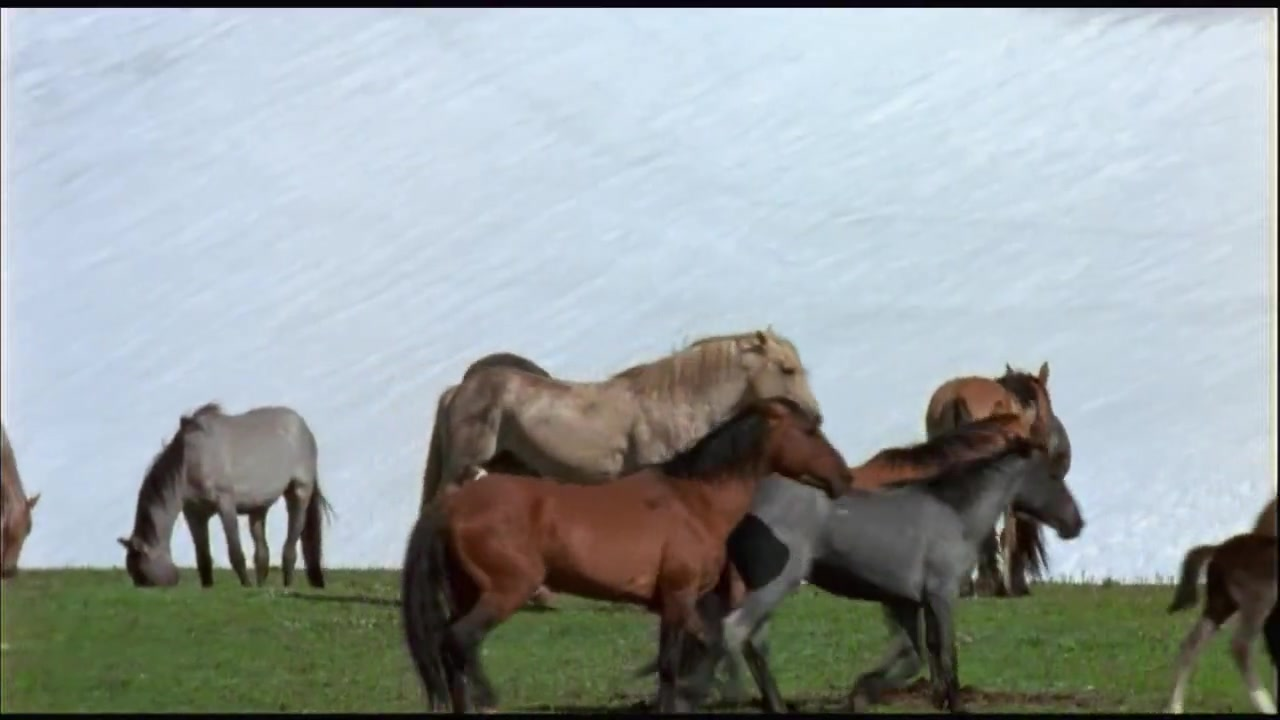horse: (404, 393, 856, 720)
